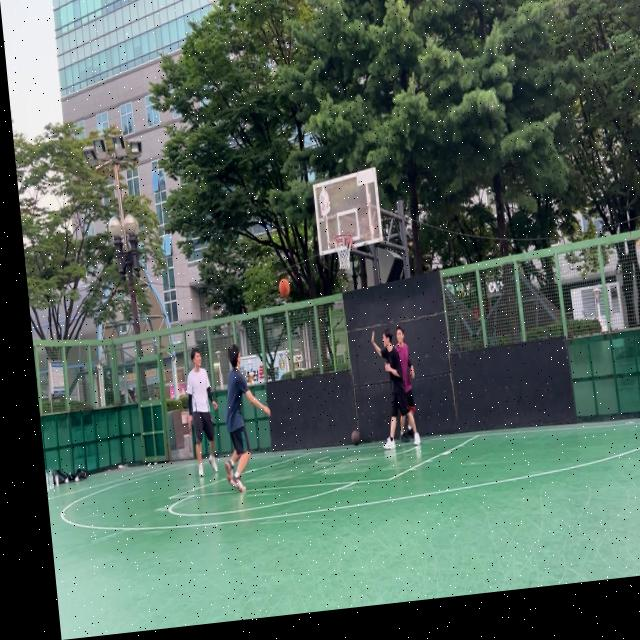basketball: (278, 278, 291, 298), (351, 430, 361, 447)
hoop: (333, 233, 355, 271)
